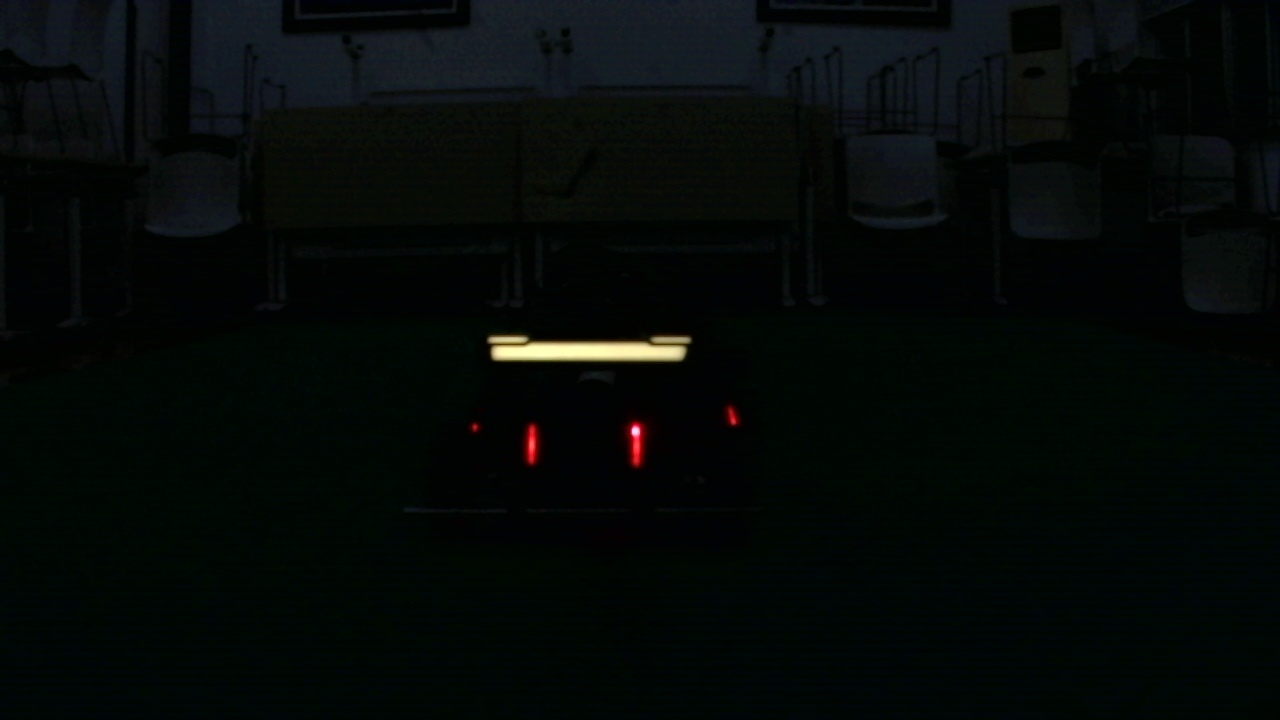lamp: (628, 422, 643, 469), (525, 424, 540, 466)
pair1: (526, 419, 644, 466)
